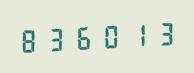eight: (17, 24, 42, 55)
one: (122, 18, 147, 50)
six: (70, 21, 95, 53)
three: (43, 22, 68, 54), (148, 17, 173, 48)
zero: (96, 20, 121, 51)
